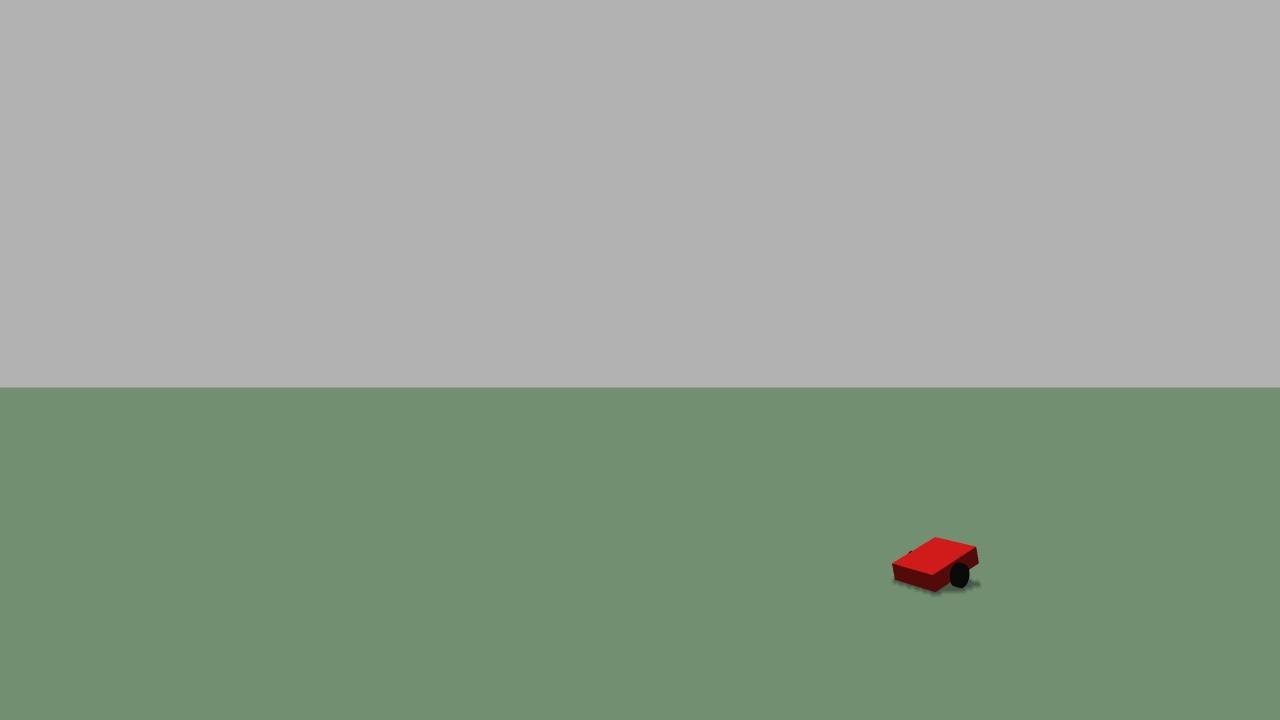ground_vehicle: (875, 530, 987, 604)
